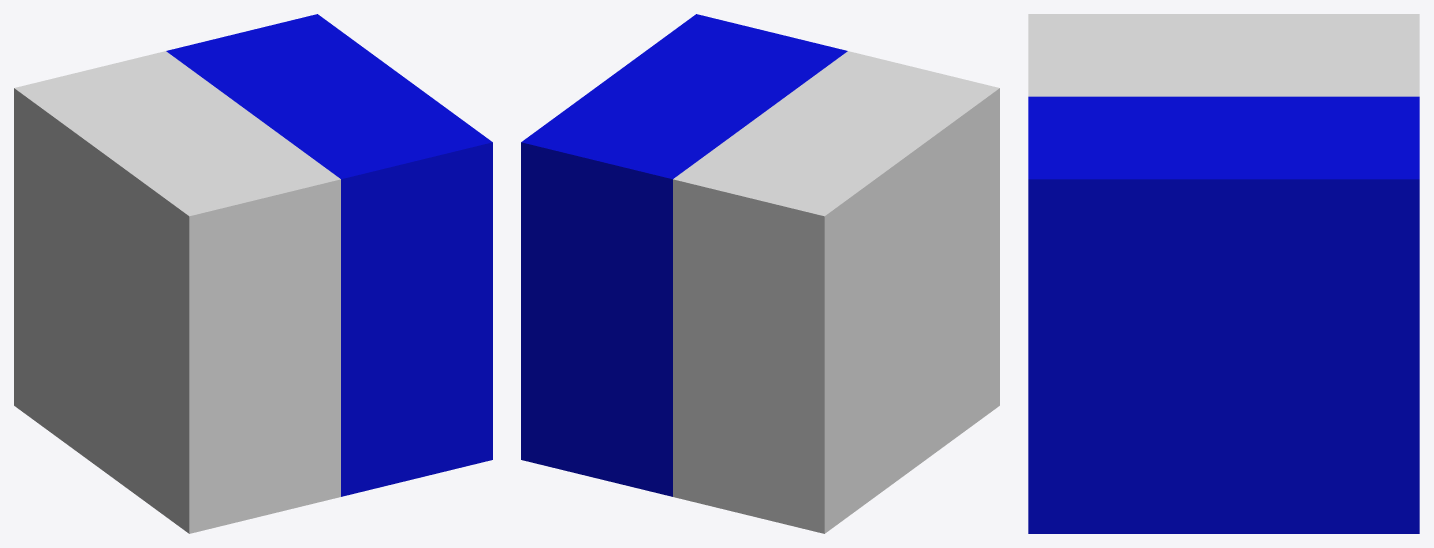
3 views of the same model, side by side, from view 1: azimuth 30°, elevation 25°; view 2: azimuth 150°, elevation 25°; view 3: azimuth 270°, elevation 25° (orthographic). The views are drawn at different scales.
Parts seen in each view (by area): view 1: Cube; view 2: Cube; view 3: Cube.
Boxes of the visible parts, box(x1,y1,x2,y2) form: Cube: box(14, 14, 492, 533); Cube: box(521, 14, 999, 533); Cube: box(1028, 14, 1419, 533).
Size of the model in its own units: 200 by 200 by 200.
